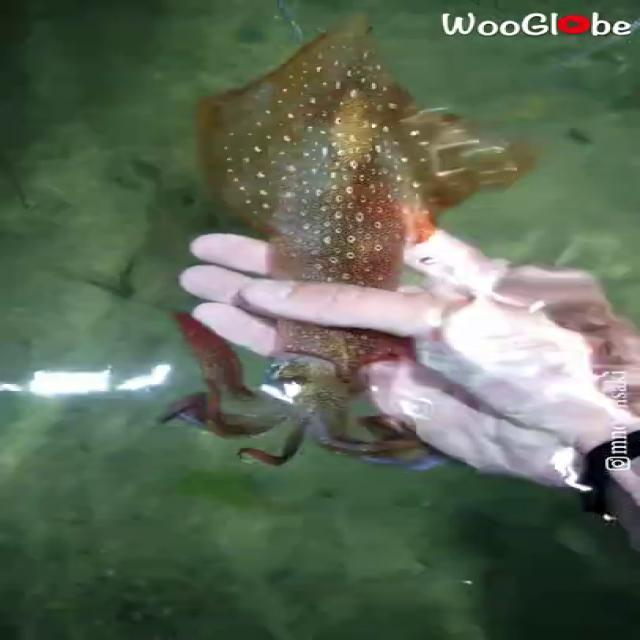squid: (152, 16, 536, 472)
